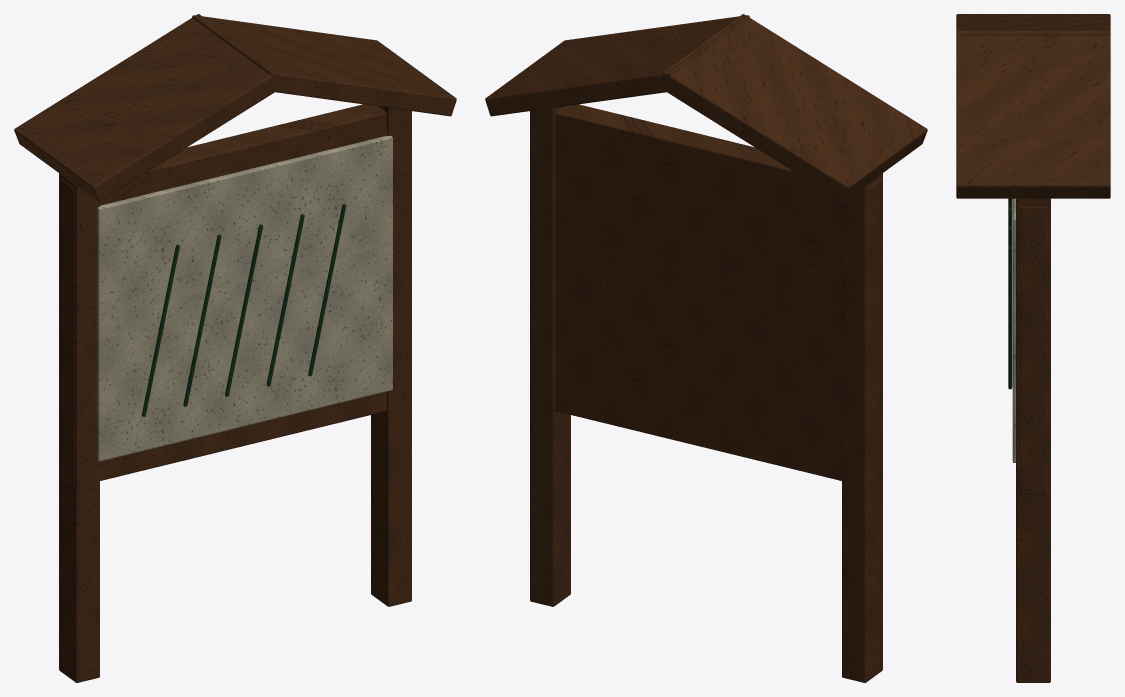
The model's file is PROP-99314465D6DD_lod0.glb.
The picture shows the model from 3 angles, left to right: view 1: azimuth 30°, elevation 25°; view 2: azimuth 150°, elevation 25°; view 3: azimuth 270°, elevation 25°; orthographic projection. The views are drawn at different scales.
Parts seen in each view (by area): view 1: original_map_panel, pitched_information_roof, information_posts, map_backboard, schematic_map_paths; view 2: map_backboard, pitched_information_roof, information_posts; view 3: pitched_information_roof, information_posts, map_backboard, original_map_panel, schematic_map_paths.
Part boxes in pixels (<box>): original_map_panel: <box>97,135,392,461</box>; pitched_information_roof: <box>14,14,456,201</box>; information_posts: <box>59,106,411,682</box>; map_backboard: <box>59,104,386,486</box>; schematic_map_paths: <box>141,204,346,416</box>; map_backboard: <box>555,104,882,486</box>; pitched_information_roof: <box>485,14,927,201</box>; information_posts: <box>530,106,882,682</box>; pitched_information_roof: <box>956,14,1110,198</box>; information_posts: <box>1016,198,1050,682</box>; map_backboard: <box>1019,206,1047,494</box>; original_map_panel: <box>1012,198,1015,462</box>; schematic_map_paths: <box>1008,198,1012,389</box>.
Bounding box in the file's own units: 2.1 × 3.27 × 0.8.
3 materials, 3 textured.
